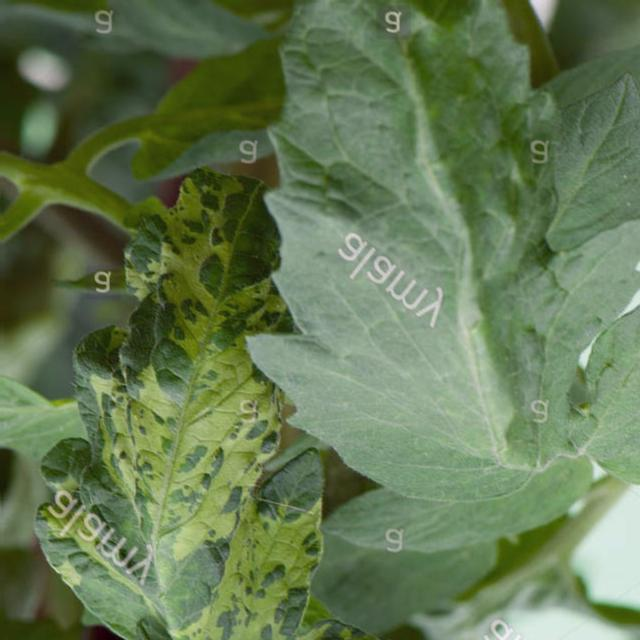Tomato leaf mosaic virus: (241, 0, 626, 530), (38, 162, 357, 640)
